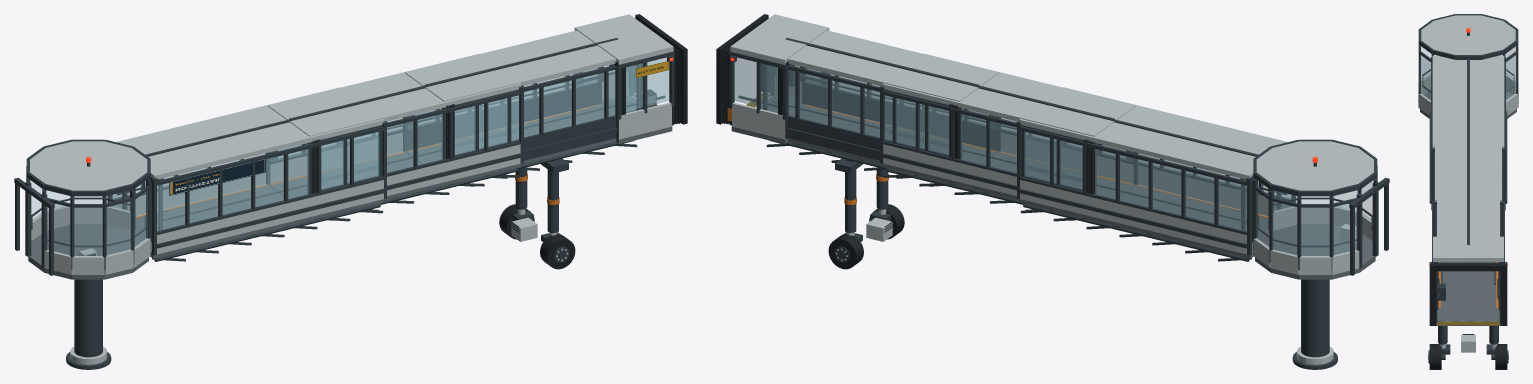
File: PZ_Airport_JetBridge.glb
3 views of the same model, side by side, from view 1: azimuth 30°, elevation 25°; view 2: azimuth 150°, elevation 25°; view 3: azimuth 270°, elevation 25° (orthographic). The views are drawn at different scales.
Visible parts, largest first — view 1: Tunnel_01_Fixed_WindowGlazing__Glass, Tunnel_01_Fixed_RoofShell__IvoryPaint, Tunnel_02_Middle_WindowGlazing__Glass, Tunnel_03_Front_RoofShell__IvoryPaint, Tunnel_03_Front_WindowGlazing__Glass, Tunnel_02_Middle_RoofShell__IvoryPaint, Tunnel_01_Fixed_LowerSideCladding__IvoryPaint, Rotunda_Glass_Bays__Glass, Rotunda_Roof__IvoryPaint, Tunnel_03_Front_LowerSideCladding__DarkSteel, Tunnel_02_Middle_LowerSideCladding__IvoryPaint, Rotunda_Cladding_Sills__IvoryPaint (+35 smaller); view 2: Tunnel_01_Fixed_WindowGlazing__Glass, Tunnel_01_Fixed_RoofShell__IvoryPaint, Tunnel_02_Middle_WindowGlazing__Glass, Tunnel_03_Front_RoofShell__IvoryPaint, Tunnel_03_Front_WindowGlazing__Glass, Tunnel_02_Middle_RoofShell__IvoryPaint, Tunnel_01_Fixed_LowerSideCladding__IvoryPaint, Rotunda_Glass_Bays__Glass, Rotunda_Roof__IvoryPaint, Tunnel_03_Front_LowerSideCladding__DarkSteel, Tunnel_02_Middle_LowerSideCladding__IvoryPaint, Rotunda_Cladding_Sills__IvoryPaint (+34 smaller); view 3: Tunnel_01_Fixed_RoofShell__IvoryPaint, Tunnel_03_Front_RoofShell__IvoryPaint, Tunnel_02_Middle_RoofShell__IvoryPaint, Rotunda_Roof__IvoryPaint, DockHead_Roof__IvoryPaint, Tunnel_03_Front_DeckSlab__GripDeck, DockHead_AircraftRubberBumpers__Rubber, DockHead_Floor__GripDeck, Rotunda_Glass_Bays__Glass, Rotunda_Eave_Fascia__DarkSteel, Rotunda_Cladding_Sills__IvoryPaint, Tunnel_01_Fixed_SideRubRails__DarkSteel (+25 smaller).
Part boxes in pixels (box(x1,y1,x2,y2)): Tunnel_01_Fixed_WindowGlazing__Glass: box(113, 132, 379, 230); Tunnel_01_Fixed_RoofShell__IvoryPaint: box(116, 87, 384, 179); Tunnel_02_Middle_WindowGlazing__Glass: box(270, 95, 518, 188); Tunnel_03_Front_RoofShell__IvoryPaint: box(405, 30, 616, 101); Tunnel_03_Front_WindowGlazing__Glass: box(407, 65, 636, 153); Tunnel_02_Middle_RoofShell__IvoryPaint: box(268, 53, 521, 136); Tunnel_01_Fixed_LowerSideCladding__IvoryPaint: box(113, 173, 383, 254); Rotunda_Glass_Bays__Glass: box(30, 180, 147, 255); Rotunda_Roof__IvoryPaint: box(30, 141, 147, 190); Tunnel_03_Front_LowerSideCladding__DarkSteel: box(407, 85, 616, 160); Tunnel_02_Middle_LowerSideCladding__IvoryPaint: box(270, 132, 520, 195); Rotunda_Cladding_Sills__IvoryPaint: box(31, 206, 150, 274); Tunnel_01_Fixed_WindowGlazing__Glass: box(1024, 132, 1290, 230); Tunnel_01_Fixed_RoofShell__IvoryPaint: box(1019, 87, 1287, 179); Tunnel_02_Middle_WindowGlazing__Glass: box(885, 95, 1133, 188); Tunnel_03_Front_RoofShell__IvoryPaint: box(787, 30, 998, 101); Tunnel_03_Front_WindowGlazing__Glass: box(767, 65, 996, 153); Tunnel_02_Middle_RoofShell__IvoryPaint: box(882, 53, 1135, 136); Tunnel_01_Fixed_LowerSideCladding__IvoryPaint: box(1020, 165, 1290, 254); Rotunda_Glass_Bays__Glass: box(1256, 180, 1373, 255); Rotunda_Roof__IvoryPaint: box(1256, 141, 1373, 190); Tunnel_03_Front_LowerSideCladding__DarkSteel: box(787, 85, 996, 160); Tunnel_02_Middle_LowerSideCladding__IvoryPaint: box(883, 132, 1133, 195); Rotunda_Cladding_Sills__IvoryPaint: box(1253, 206, 1372, 274); Tunnel_01_Fixed_RoofShell__IvoryPaint: box(1432, 56, 1504, 148); Tunnel_03_Front_RoofShell__IvoryPaint: box(1437, 169, 1499, 236); Tunnel_02_Middle_RoofShell__IvoryPaint: box(1435, 116, 1501, 201); Rotunda_Roof__IvoryPaint: box(1421, 15, 1515, 54); DockHead_Roof__IvoryPaint: box(1433, 236, 1503, 261); Tunnel_03_Front_DeckSlab__GripDeck: box(1440, 262, 1496, 300); DockHead_AircraftRubberBumpers__Rubber: box(1429, 264, 1507, 325); DockHead_Floor__GripDeck: box(1436, 301, 1500, 325); Rotunda_Glass_Bays__Glass: box(1421, 46, 1515, 100); Rotunda_Eave_Fascia__DarkSteel: box(1418, 14, 1518, 59); Rotunda_Cladding_Sills__IvoryPaint: box(1418, 73, 1518, 115); Tunnel_01_Fixed_SideRubRails__DarkSteel: box(1429, 111, 1507, 203).
Bounding box in the file's own units: 27.43 × 8.43 × 4.68.
11 materials, 8 textured.
